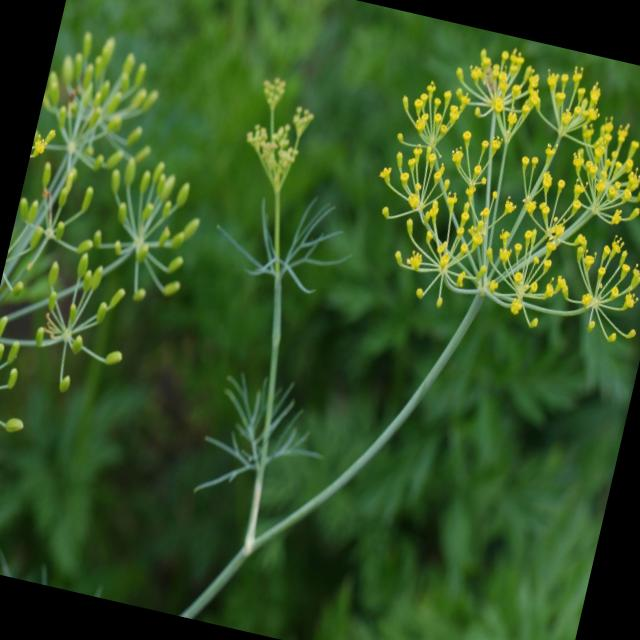Dill: (198, 0, 640, 382), (0, 14, 239, 494)
